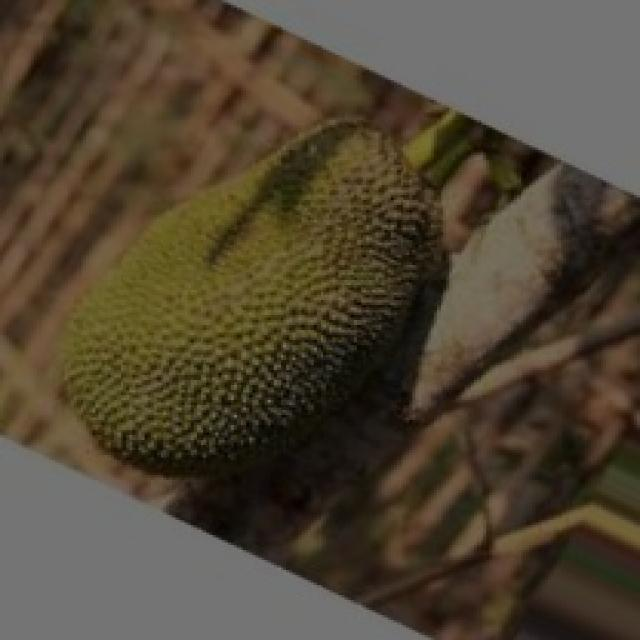Fruit: (62, 95, 496, 485)
